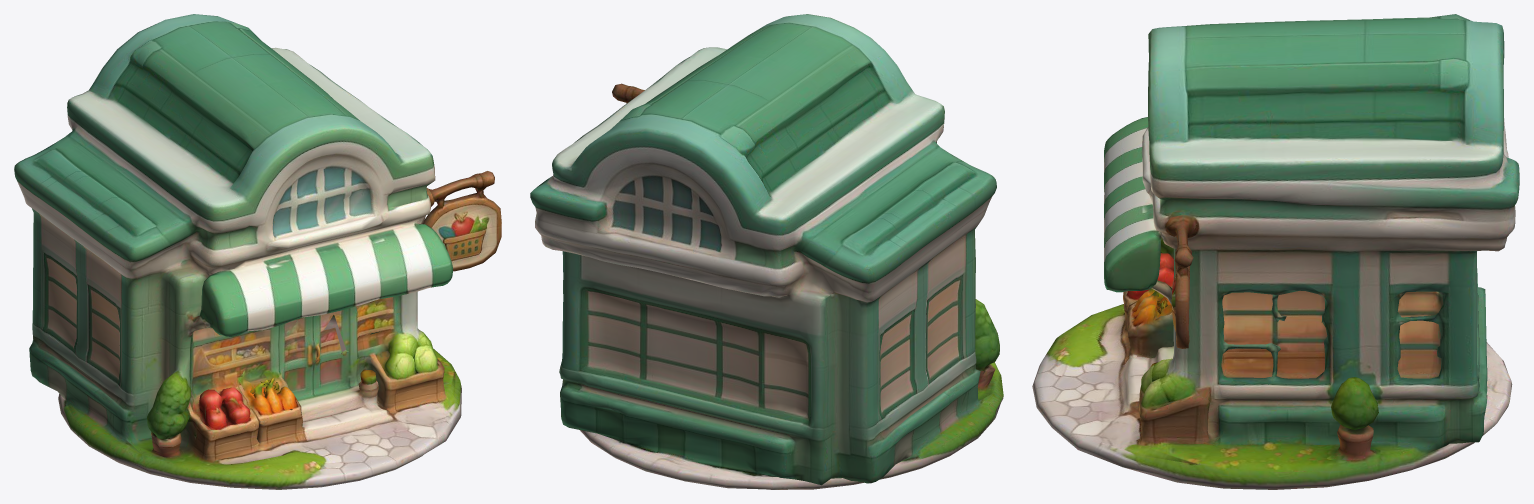
File: 05-supermarket.glb
The picture shows the model from 3 angles, left to right: view 1: azimuth 30°, elevation 25°; view 2: azimuth 150°, elevation 25°; view 3: azimuth 270°, elevation 25°; orthographic projection. The views are drawn at different scales.
Parts seen in each view (by area): view 1: tripo_node_21f79025-28ff-4cb4-9997-84b57945cc7f; view 2: tripo_node_21f79025-28ff-4cb4-9997-84b57945cc7f; view 3: tripo_node_21f79025-28ff-4cb4-9997-84b57945cc7f.
Boxes of the visible parts, left/top/right/bottom form: tripo_node_21f79025-28ff-4cb4-9997-84b57945cc7f: left=14, top=14, right=501, bottom=489; tripo_node_21f79025-28ff-4cb4-9997-84b57945cc7f: left=530, top=14, right=1003, bottom=489; tripo_node_21f79025-28ff-4cb4-9997-84b57945cc7f: left=1032, top=14, right=1519, bottom=489.
Bounding box in the file's own units: 0.9756 × 0.7841 × 0.9449.
1 material, 1 textured.
